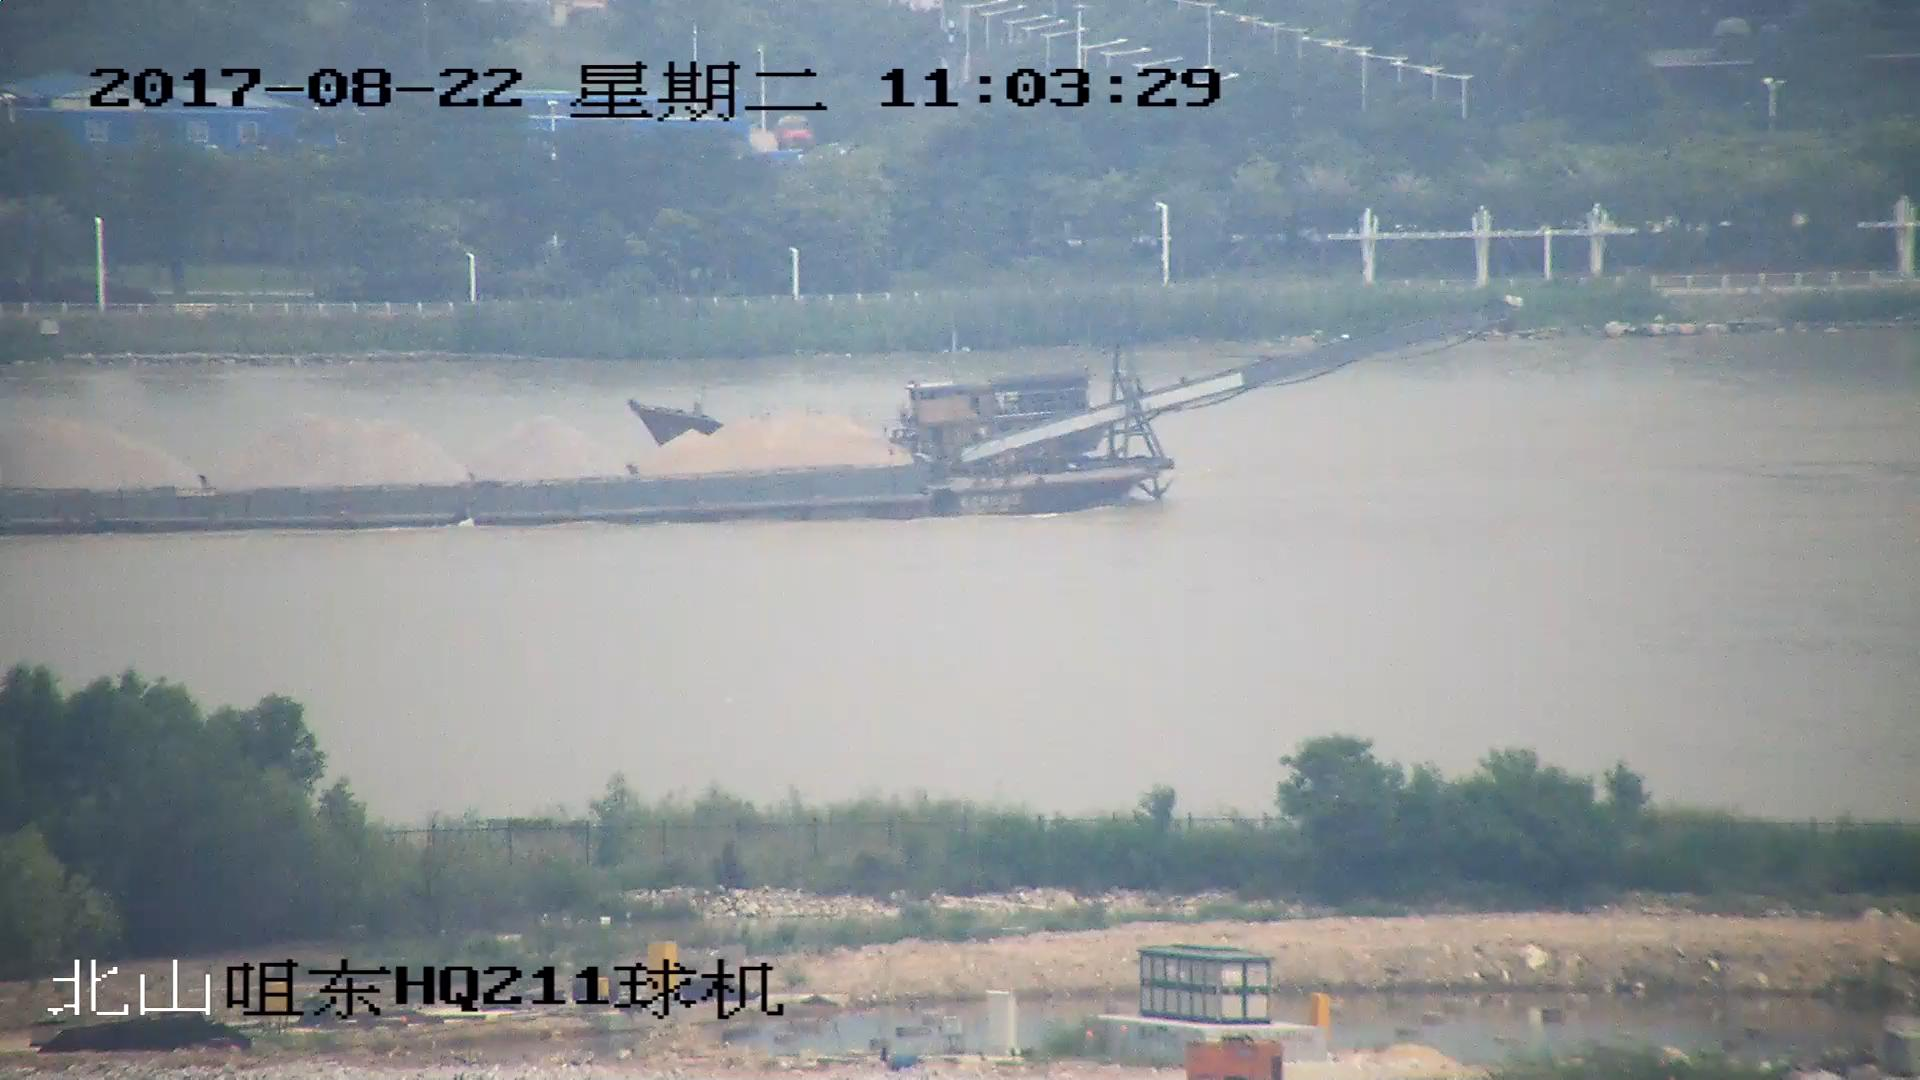fishing boat: (633, 361, 1112, 463)
ore carrier: (1, 299, 1514, 542)
